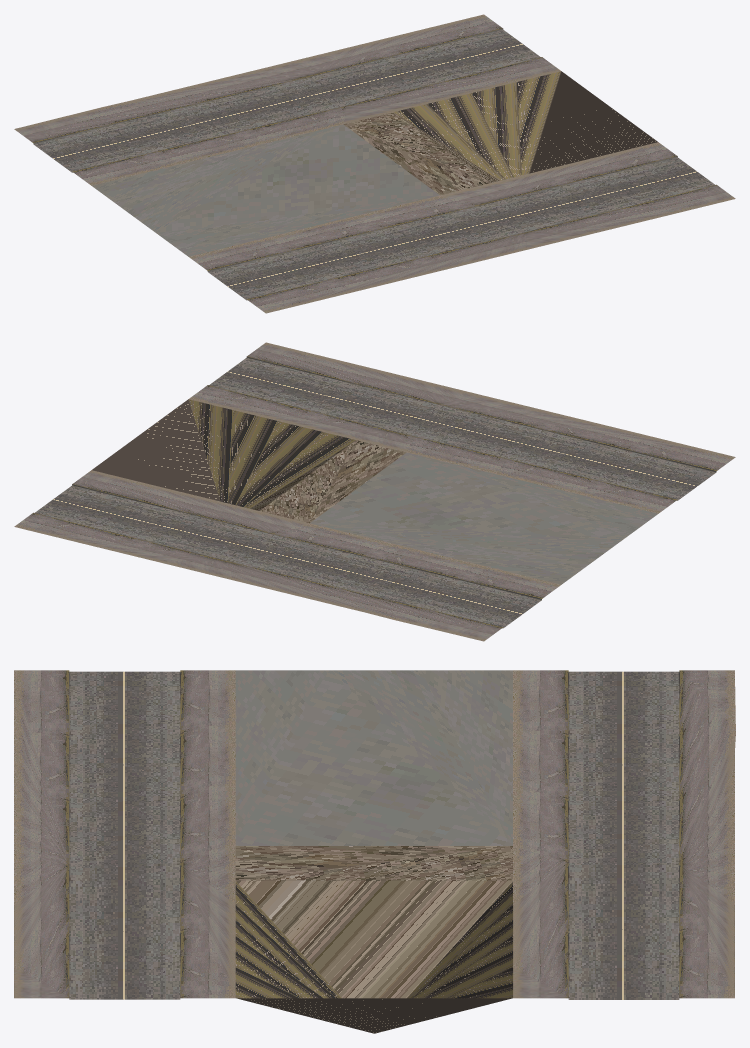
File: cuntsrod13_lod.obj
3 renders of one model, top to bottom at view 1: azimuth 30°, elevation 25°; view 2: azimuth 150°, elevation 25°; view 3: azimuth 270°, elevation 25°, orthographic. The views are drawn at different scales.
Visible parts, largest first — view 1: cuntsrod13_LOD; view 2: cuntsrod13_LOD; view 3: cuntsrod13_LOD.
Boxes of the visible parts, bbox=[...] form: cuntsrod13_LOD: bbox=[14, 14, 735, 313]; cuntsrod13_LOD: bbox=[14, 342, 735, 641]; cuntsrod13_LOD: bbox=[14, 670, 735, 1033].
Size of the model in its own units: 70 by 9.59 by 65.1.
4 materials, 4 textured.
